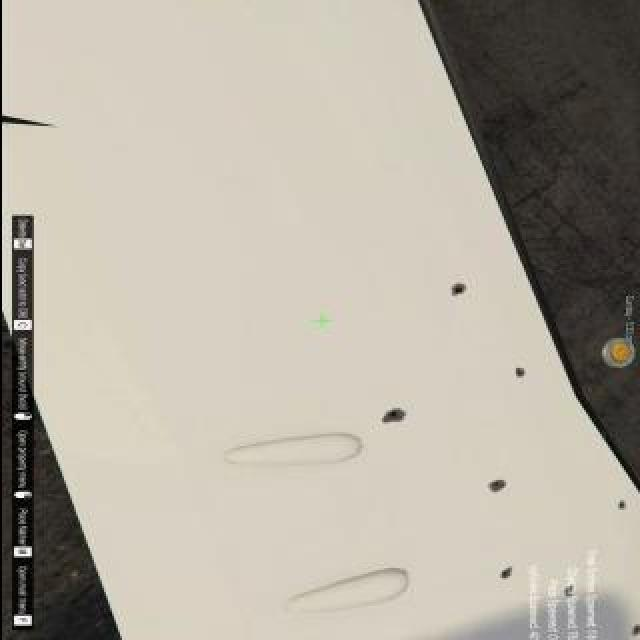crack: (378, 409, 412, 429), (484, 478, 508, 498), (446, 283, 470, 299), (495, 567, 519, 583), (509, 367, 529, 383), (614, 501, 630, 513)
